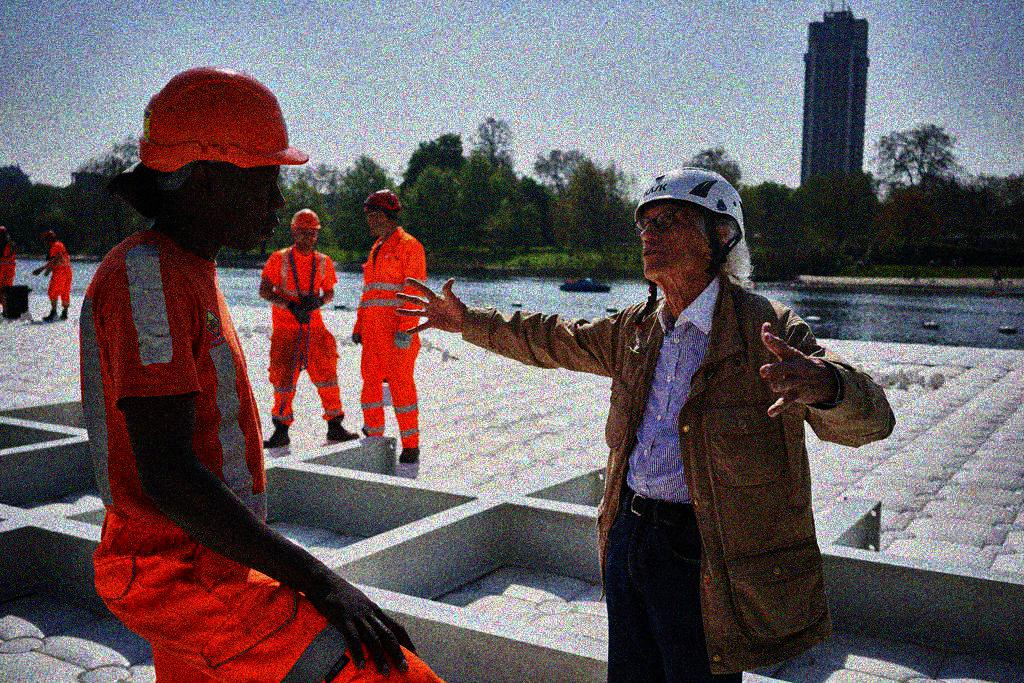helmet: (105, 60, 312, 262), (627, 165, 746, 289), (361, 189, 402, 237), (288, 206, 325, 254), (43, 230, 58, 245), (1, 224, 10, 241)
